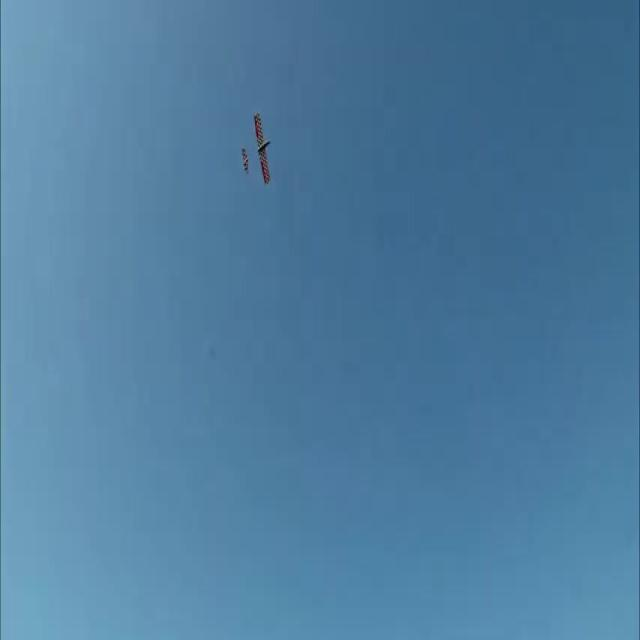iha: (241, 146, 272, 151)
